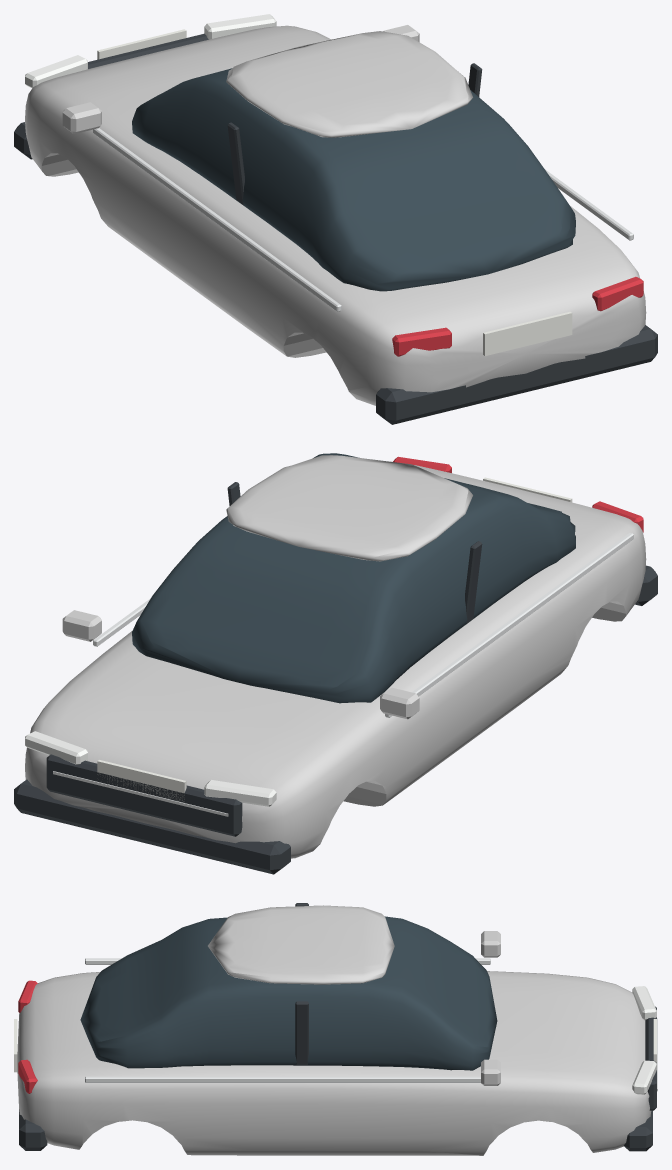
Rendered from hatchback.glb.
3 views of the same model, one above another, from view 1: azimuth 30°, elevation 25°; view 2: azimuth 150°, elevation 25°; view 3: azimuth 270°, elevation 25° (orthographic). The views are drawn at different scales.
Parts seen in each view (by area): view 1: paint_body, glass_house, roof, bumper_r, chrome_beltline, plate.001, tail_lamp, head_lamp.001, tail_lamp.001, mirror, head_lamp, black_grille (+3 smaller); view 2: paint_body, glass_house, roof, bumper_f, black_grille, chrome_beltline, plate, head_lamp, head_lamp.001, mirror, mirror.001, black_bpillar (+1 smaller); view 3: paint_body, glass_house, roof, chrome_beltline.001, black_bpillar.001, bumper_r, bumper_f, black_grille, head_lamp.001, head_lamp, mirror.001, mirror (+1 smaller).
Boxes of the visible parts, x1,y1,x2,y2 form: paint_body: (25, 25, 646, 405); glass_house: (132, 68, 575, 291); roof: (226, 31, 472, 137); bumper_r: (376, 325, 657, 424); chrome_beltline: (93, 128, 341, 311); plate.001: (483, 311, 572, 355); tail_lamp: (392, 327, 451, 356); head_lamp.001: (204, 14, 276, 39); tail_lamp.001: (592, 276, 643, 311); mirror: (62, 102, 101, 133); head_lamp: (25, 55, 87, 87); black_grille: (88, 33, 208, 68); paint_body: (25, 465, 646, 858); glass_house: (132, 453, 575, 703); roof: (226, 455, 472, 561); bumper_f: (14, 779, 290, 874); black_grille: (46, 754, 242, 836); chrome_beltline: (385, 533, 633, 717); plate: (97, 760, 186, 801); head_lamp: (204, 780, 276, 806); head_lamp.001: (25, 731, 87, 764); mirror: (380, 687, 419, 719); mirror.001: (62, 610, 101, 641); black_bpillar: (465, 541, 482, 623); paint_body: (17, 971, 651, 1155); glass_house: (80, 916, 497, 1070); roof: (208, 905, 394, 984); chrome_beltline.001: (85, 1076, 480, 1082); black_bpillar.001: (295, 1001, 308, 1064); bumper_r: (19, 1109, 47, 1150); bumper_f: (623, 1110, 652, 1151); black_grille: (645, 1006, 656, 1110); head_lamp.001: (632, 1060, 656, 1094); head_lamp: (632, 986, 656, 1020); mirror.001: (481, 1059, 500, 1085); mirror: (481, 931, 500, 957).
Size of the model in its own units: 2 by 1.09 by 3.85.
